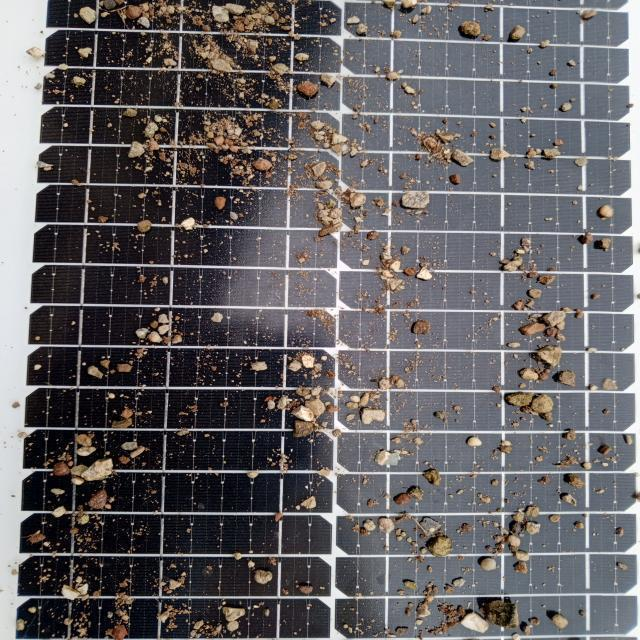Surface Contaminant: (18, 0, 634, 634)
